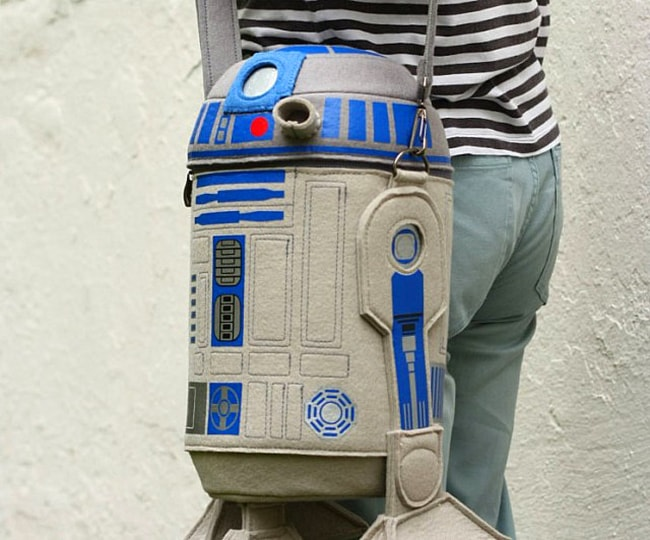r2d2: (188, 42, 448, 540)
